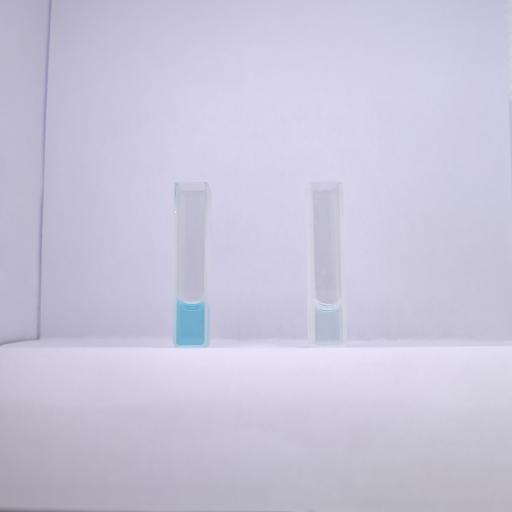cuvette: (308, 178, 349, 351), (172, 177, 210, 350)
liquid: (176, 300, 204, 345), (314, 301, 342, 344)
